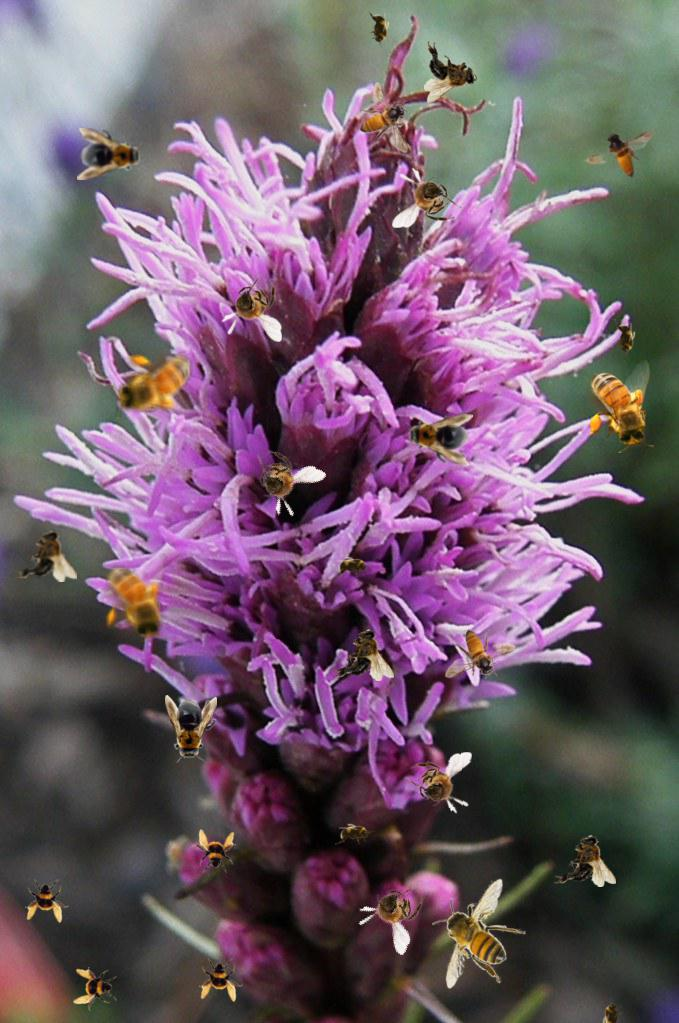Bee: (432, 878, 526, 989), (235, 437, 328, 527), (349, 865, 436, 957), (102, 553, 170, 646), (111, 351, 204, 419), (586, 360, 654, 453), (401, 751, 478, 819), (392, 167, 462, 228), (221, 272, 282, 342), (402, 410, 474, 466), (359, 82, 409, 153), (584, 129, 655, 179), (445, 629, 516, 679), (77, 128, 145, 180), (165, 695, 217, 763), (15, 529, 77, 582), (424, 41, 477, 103), (554, 834, 616, 887), (332, 628, 394, 681), (192, 829, 236, 873), (73, 967, 117, 1011), (25, 879, 69, 923), (199, 958, 243, 1002), (368, 9, 390, 49), (333, 556, 373, 578), (335, 823, 375, 845), (614, 319, 636, 359), (602, 997, 624, 1023)
